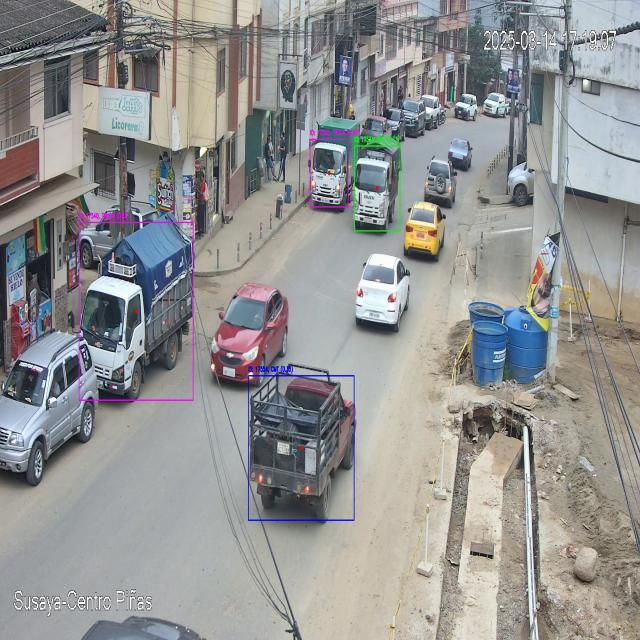SED: (209, 278, 291, 386), (354, 252, 410, 334), (403, 199, 446, 263)
TRUCK: (84, 220, 194, 396)
